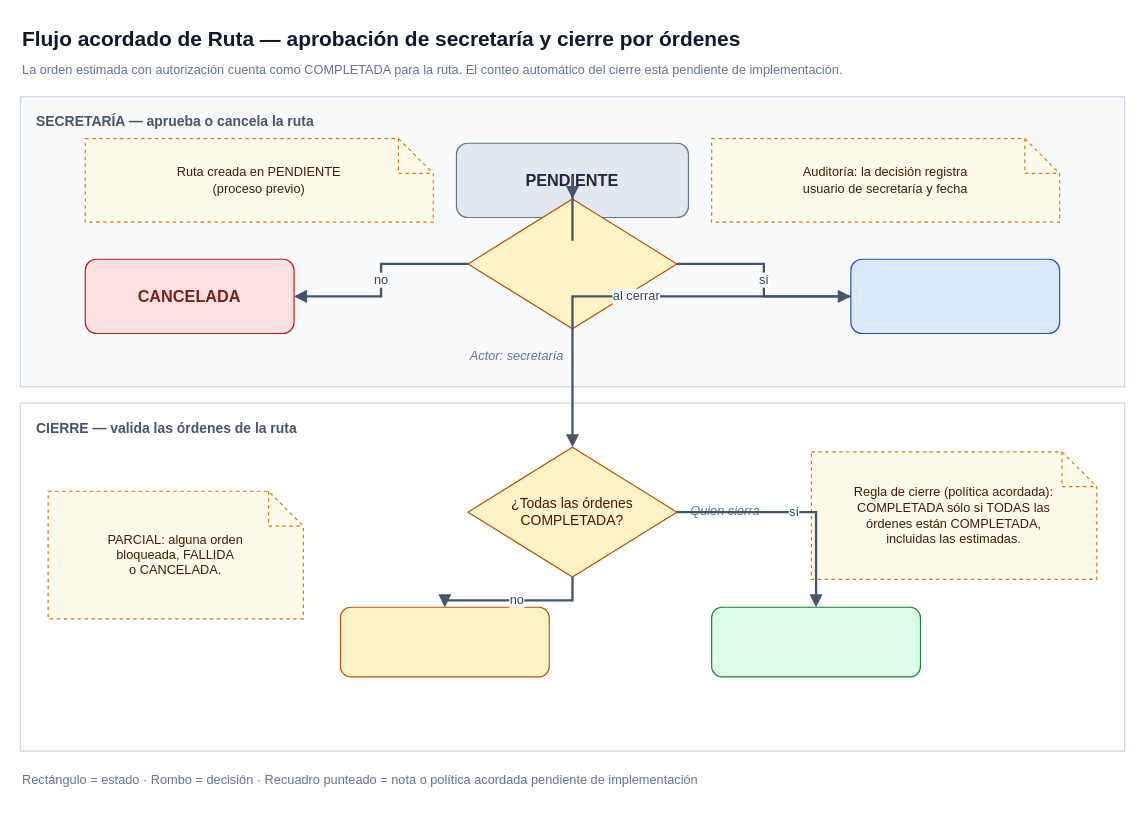
Image size: 1145x819. Some labels were removed from this diagram. Here are the shapes that lost their labels. From the top down, the centre of each, then its label:
(x=572, y=263): ¿Aprueba la ruta?
(x=955, y=296): EN_PROGRESO
(x=444, y=641): PARCIAL
(x=815, y=641): COMPLETADA
